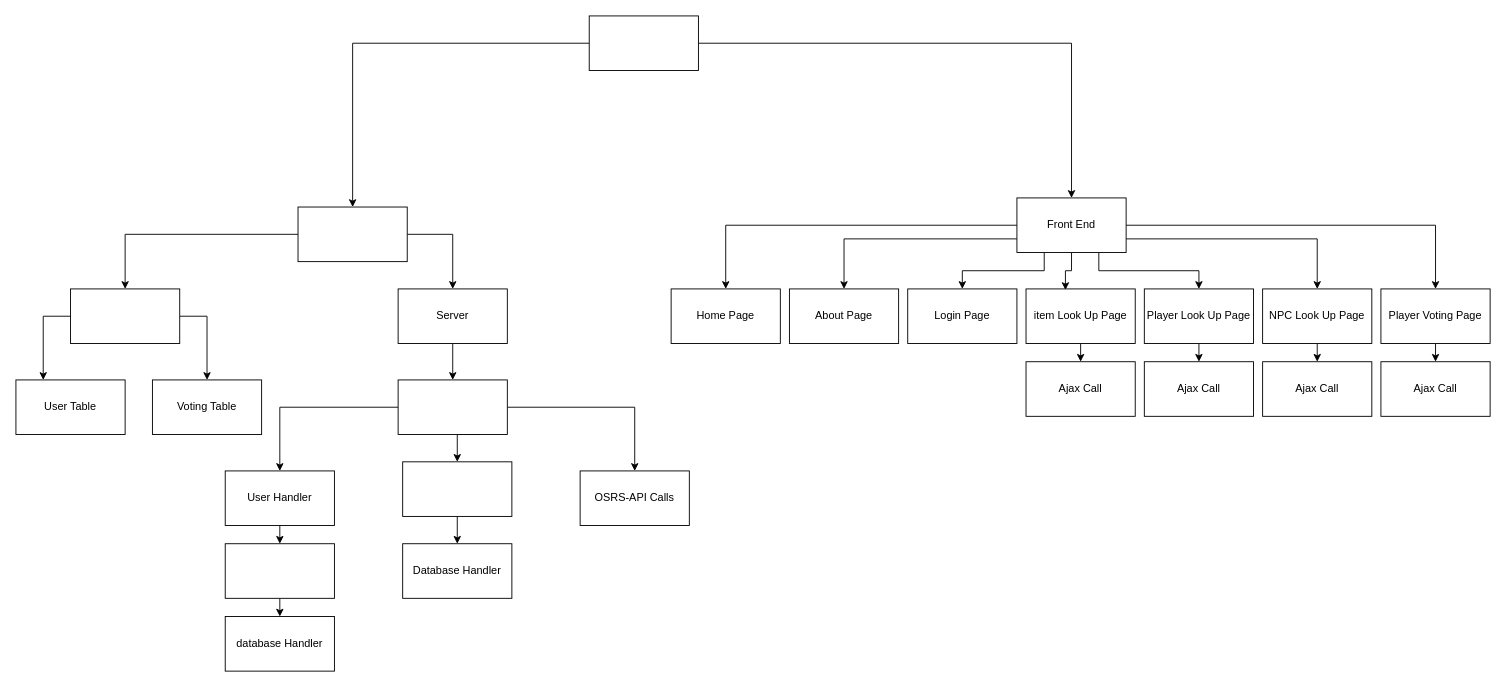
This 1506x687 diagram has some shape labels left out. The shapes that lost their labels are listed below. From the top down, each one's centre as x and y in pixels, then its label:
At pixel 643 43: "OSRS Fan Site".
At pixel 352 234: "Back End".
At pixel 125 316: "Database".
At pixel 452 407: "Server I/O".
At pixel 457 488: "Player Voting System".
At pixel 279 570: "Login Handler".
